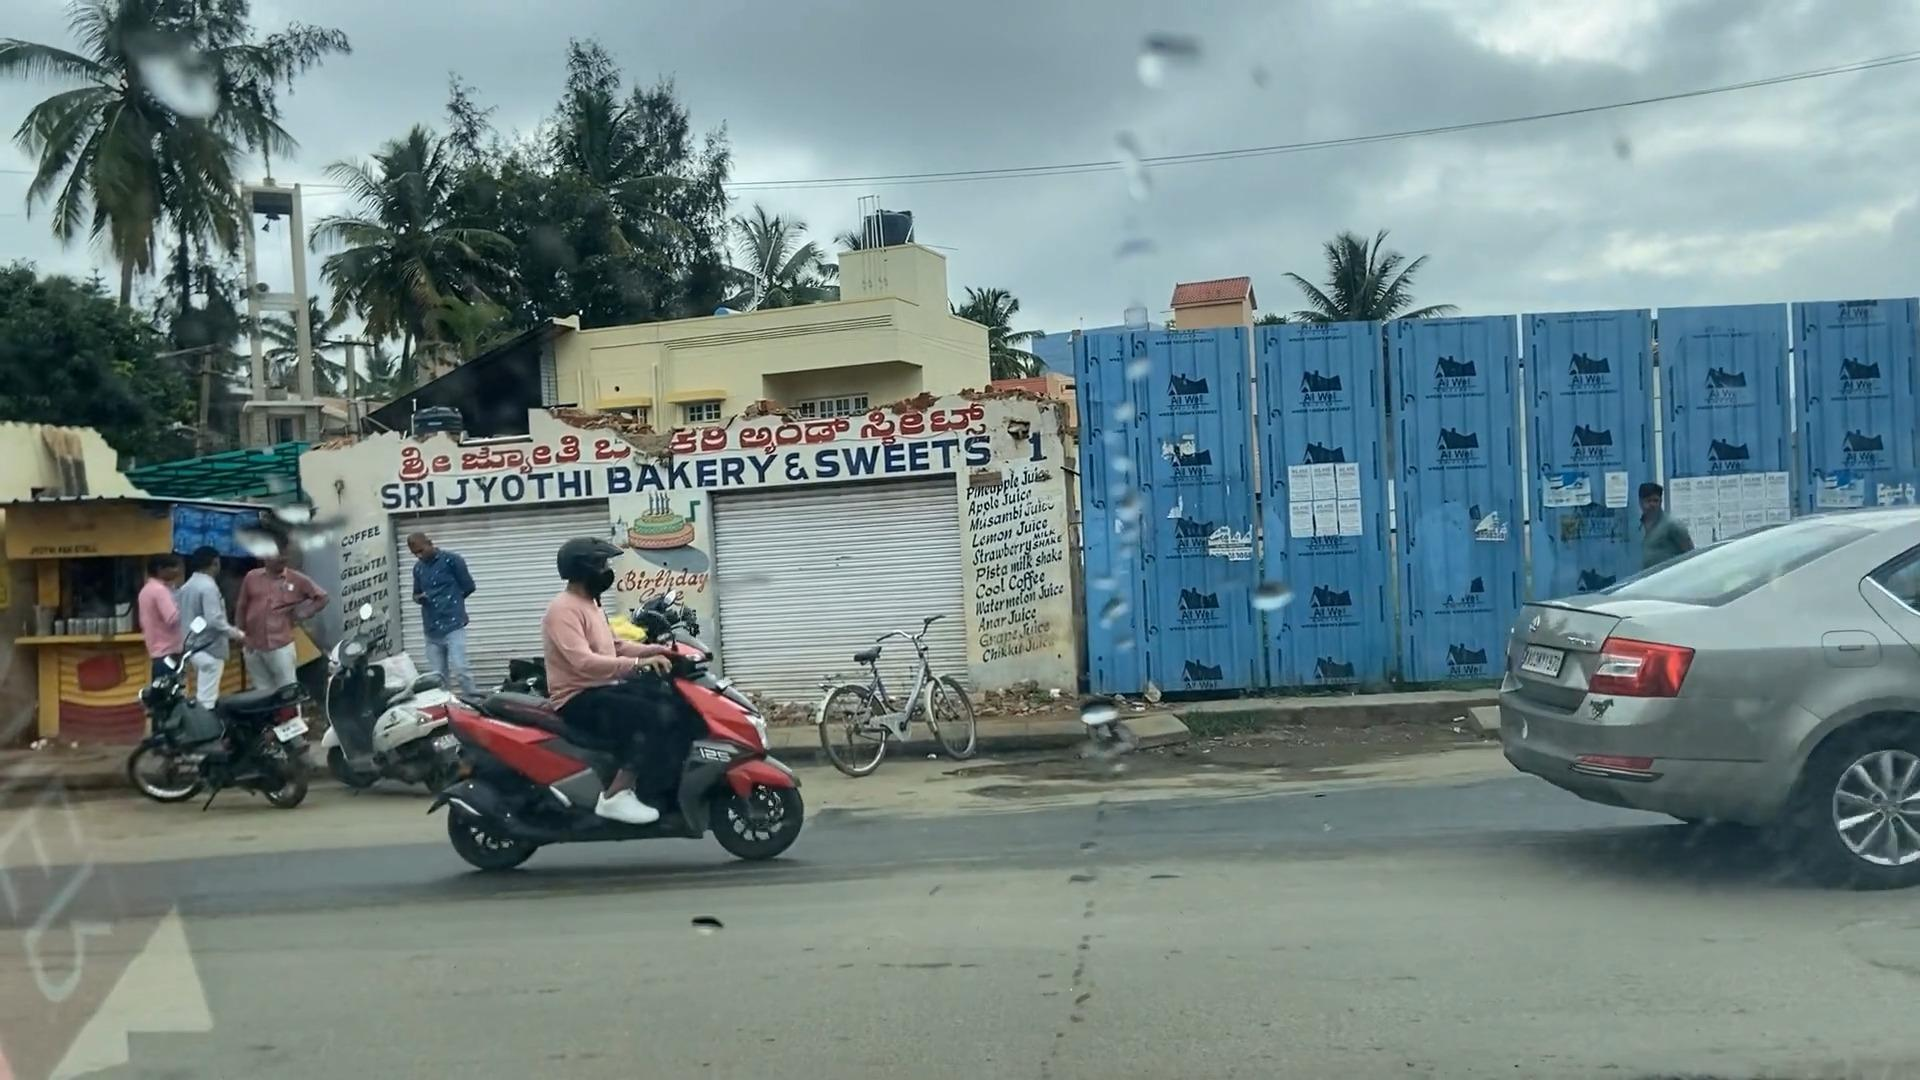LMV: (443, 543, 789, 831)
